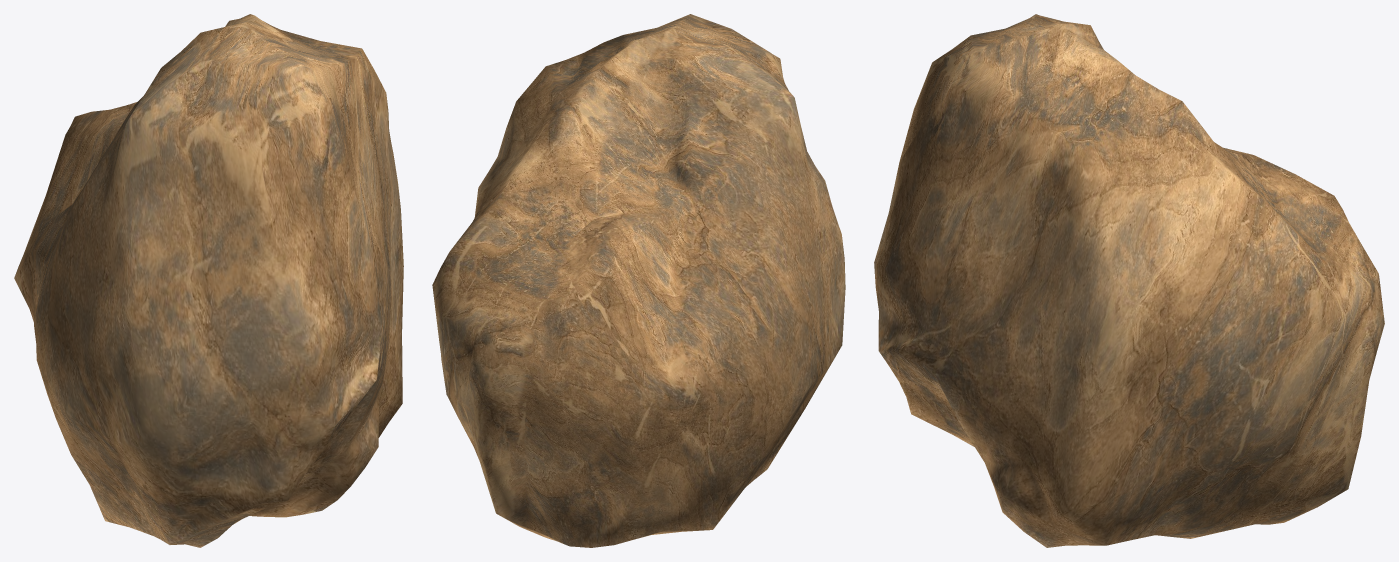
Rendered from desert_rock_c.glb.
The picture shows the model from 3 angles, left to right: view 1: azimuth 30°, elevation 25°; view 2: azimuth 150°, elevation 25°; view 3: azimuth 270°, elevation 25°; orthographic projection. The views are drawn at different scales.
Visible parts, largest first — view 1: Cliff_Rock_Model; view 2: Cliff_Rock_Model; view 3: Cliff_Rock_Model.
Part boxes in pixels (x1,y1,x2,y2): Cliff_Rock_Model: (14,14,403,547); Cliff_Rock_Model: (432,14,845,547); Cliff_Rock_Model: (874,14,1384,547).
Size of the model in its own units: 0.7627 by 1.05 by 0.9689.
1 material, 1 textured.
